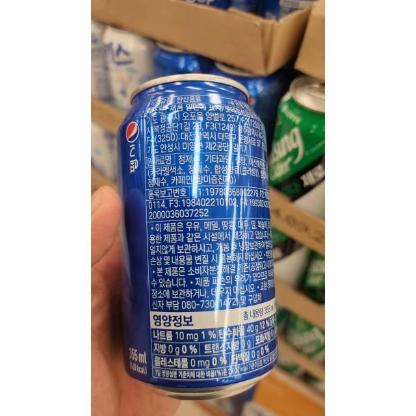Can: (116, 72, 276, 400)
